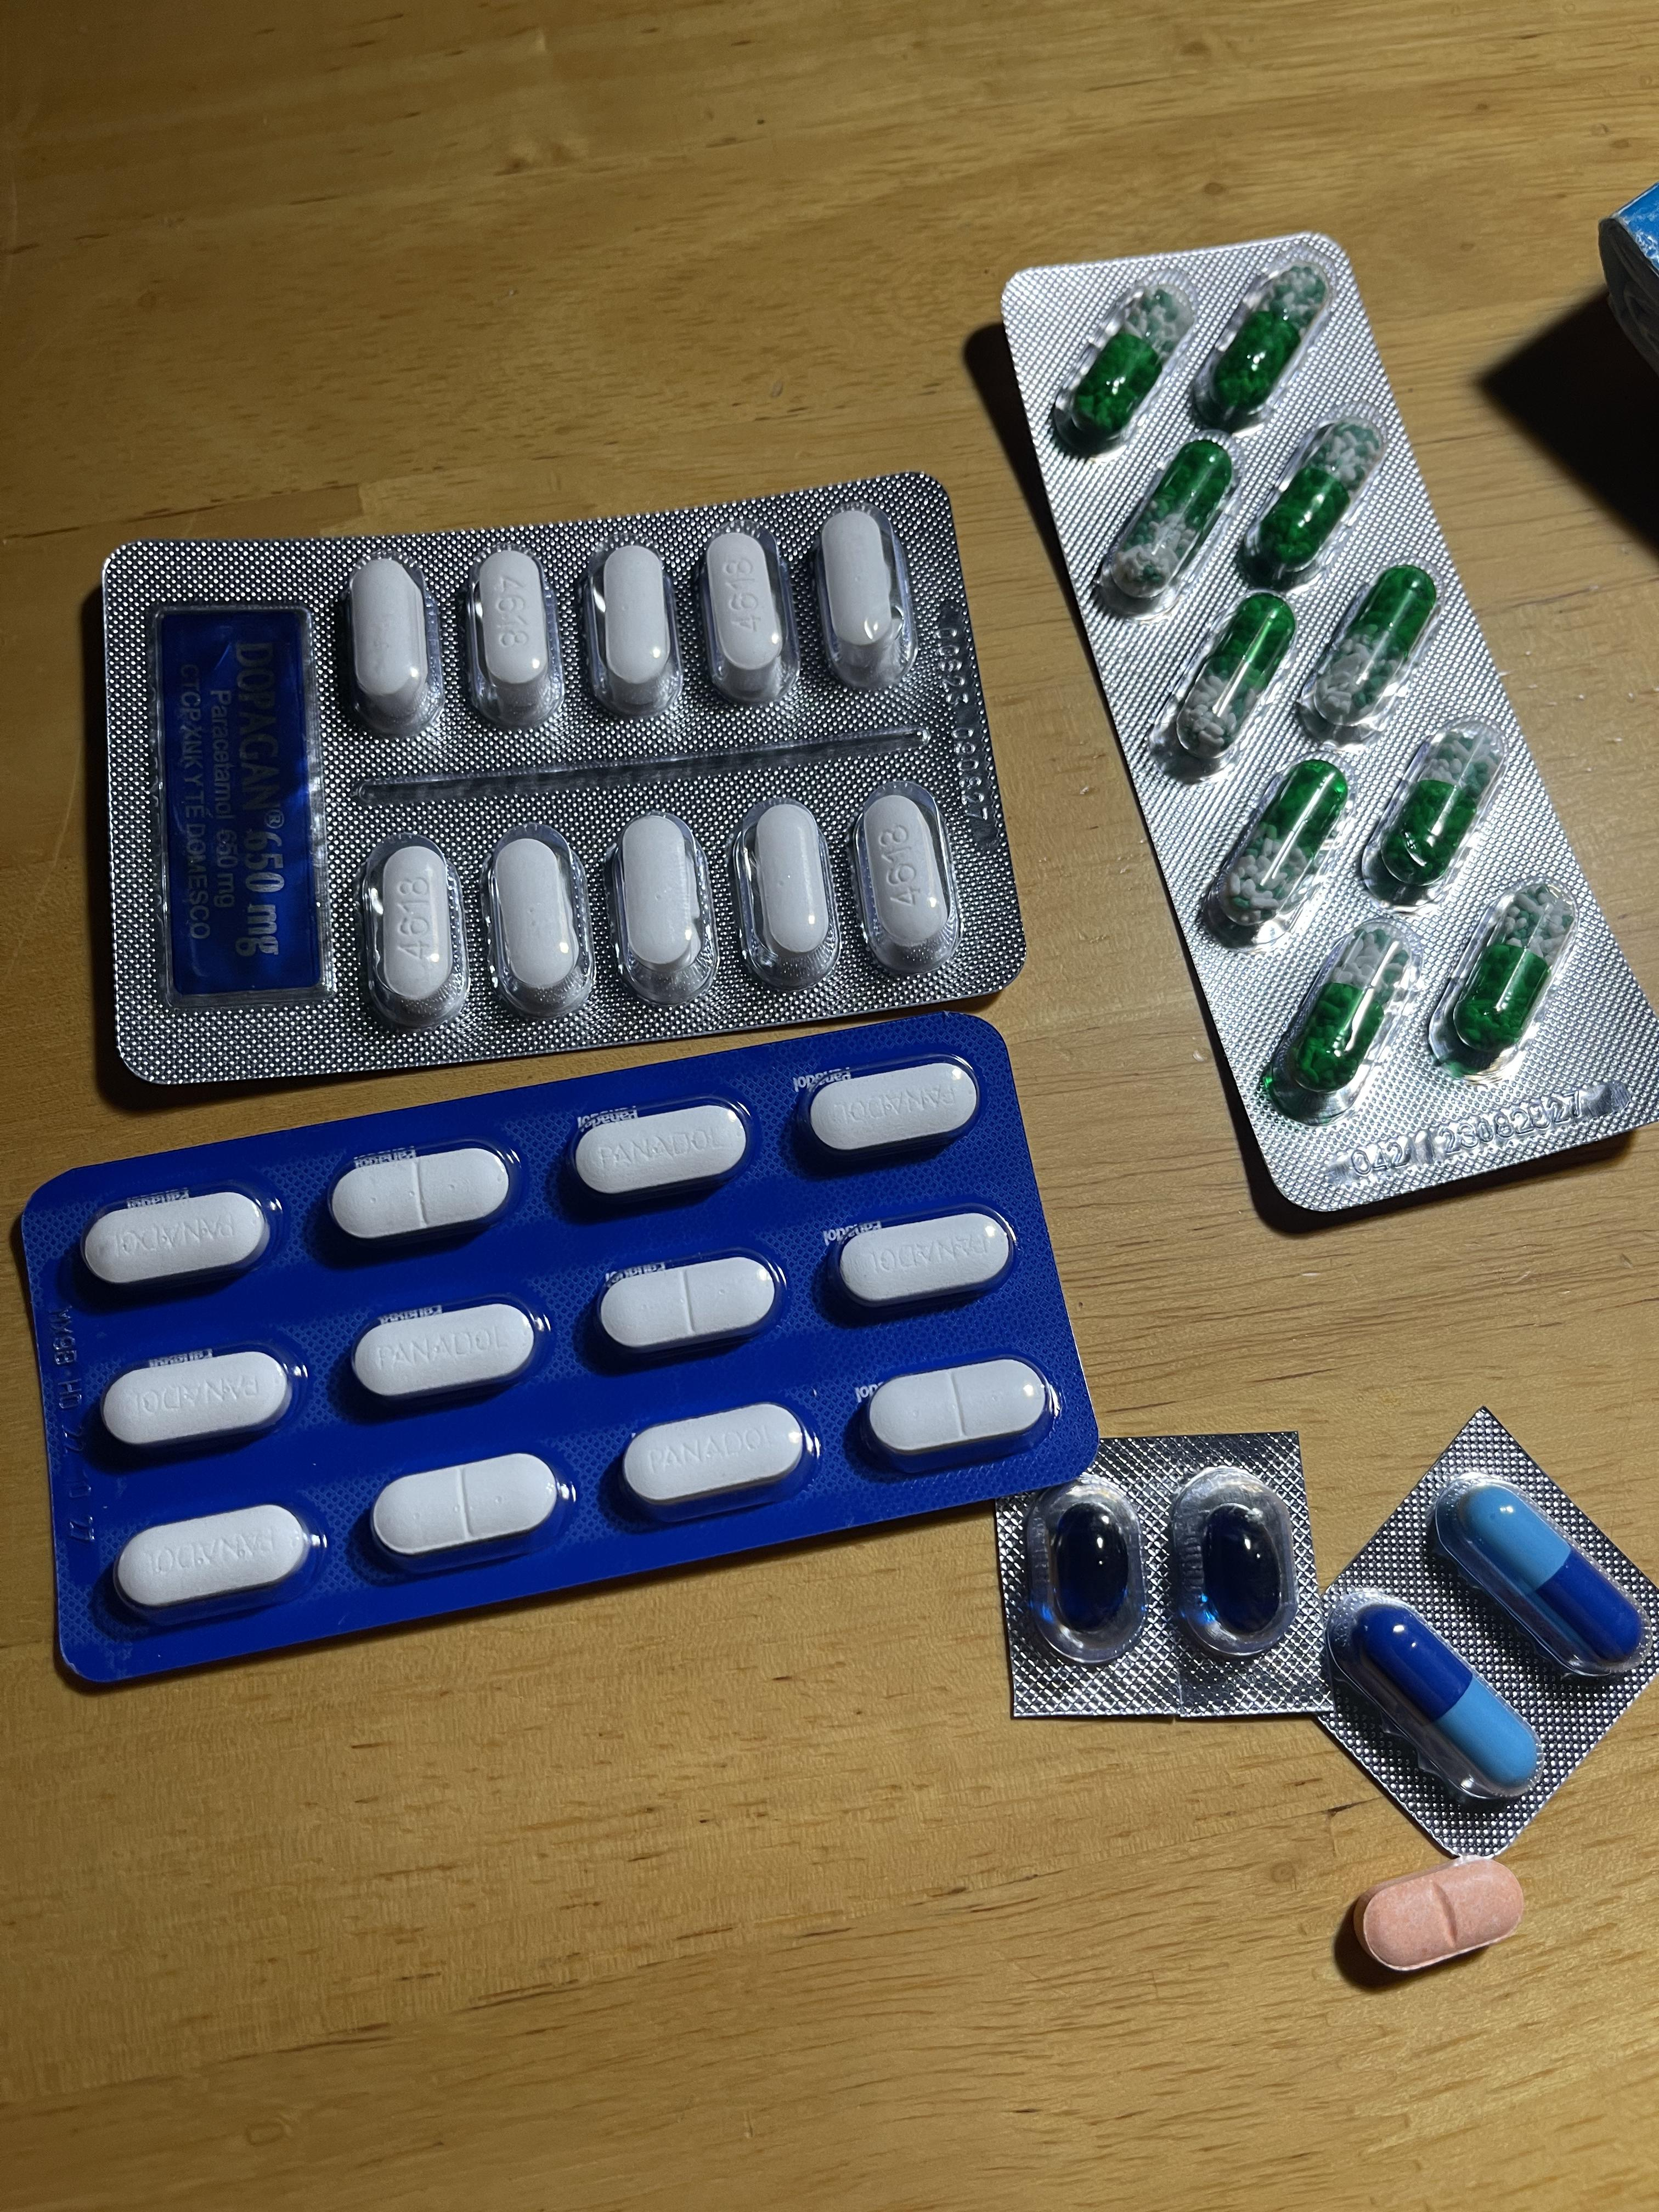Lincomyxin_500mg: (1199, 1501, 1283, 1635), (1053, 1502, 1132, 1634)
Loratadine_10mg: (1349, 1854, 1528, 1974)
Paracetamol_350mg: (114, 1503, 321, 1619), (621, 1405, 816, 1520), (371, 1454, 566, 1568), (592, 1250, 786, 1363), (100, 1346, 296, 1455), (82, 1188, 273, 1296), (351, 1297, 544, 1405), (867, 1356, 1052, 1466), (569, 1101, 755, 1209), (830, 1208, 1018, 1315), (329, 1143, 515, 1249), (805, 1057, 983, 1158)
Paracetamol_500mg: (356, 836, 466, 1025), (607, 812, 714, 1008), (851, 781, 958, 973), (696, 529, 802, 707), (467, 546, 563, 726), (350, 560, 437, 734), (821, 512, 904, 687), (494, 837, 575, 994), (754, 802, 831, 966), (601, 547, 673, 703)
Paracetamol_650mg: (1259, 917, 1420, 1123), (1430, 876, 1583, 1076), (1199, 752, 1347, 939), (1361, 720, 1508, 903), (1300, 564, 1442, 747), (1241, 416, 1386, 590), (1193, 258, 1330, 436), (1097, 435, 1234, 613), (1165, 592, 1297, 771), (1053, 279, 1184, 458)
pill: (1350, 1599, 1542, 1798), (1447, 1481, 1643, 1668)
